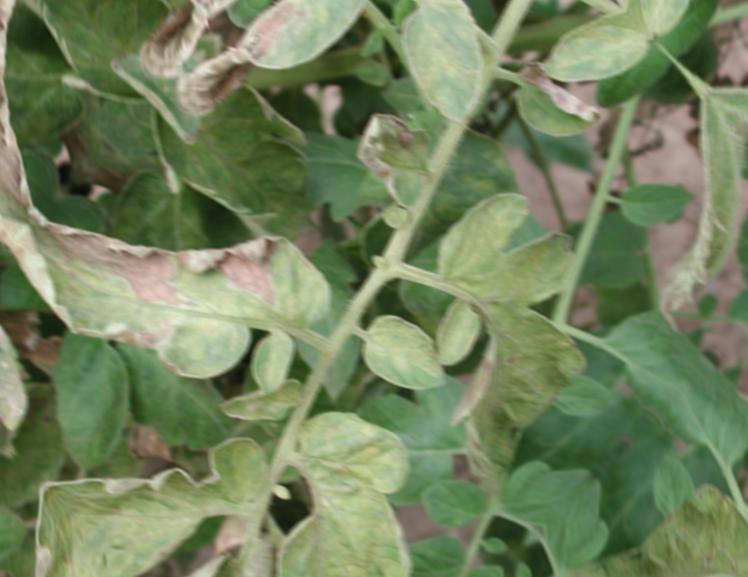Tomato mold leaf: (0, 99, 350, 457), (157, 378, 515, 577), (24, 337, 288, 577), (166, 0, 485, 174), (364, 0, 534, 144), (341, 290, 470, 418), (533, 0, 664, 125), (334, 97, 460, 222), (410, 281, 509, 380)
